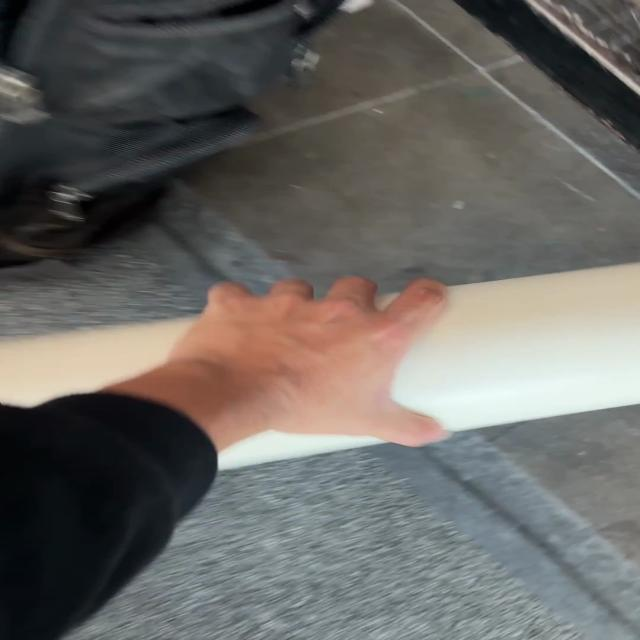Coral: (0, 260, 640, 470)
